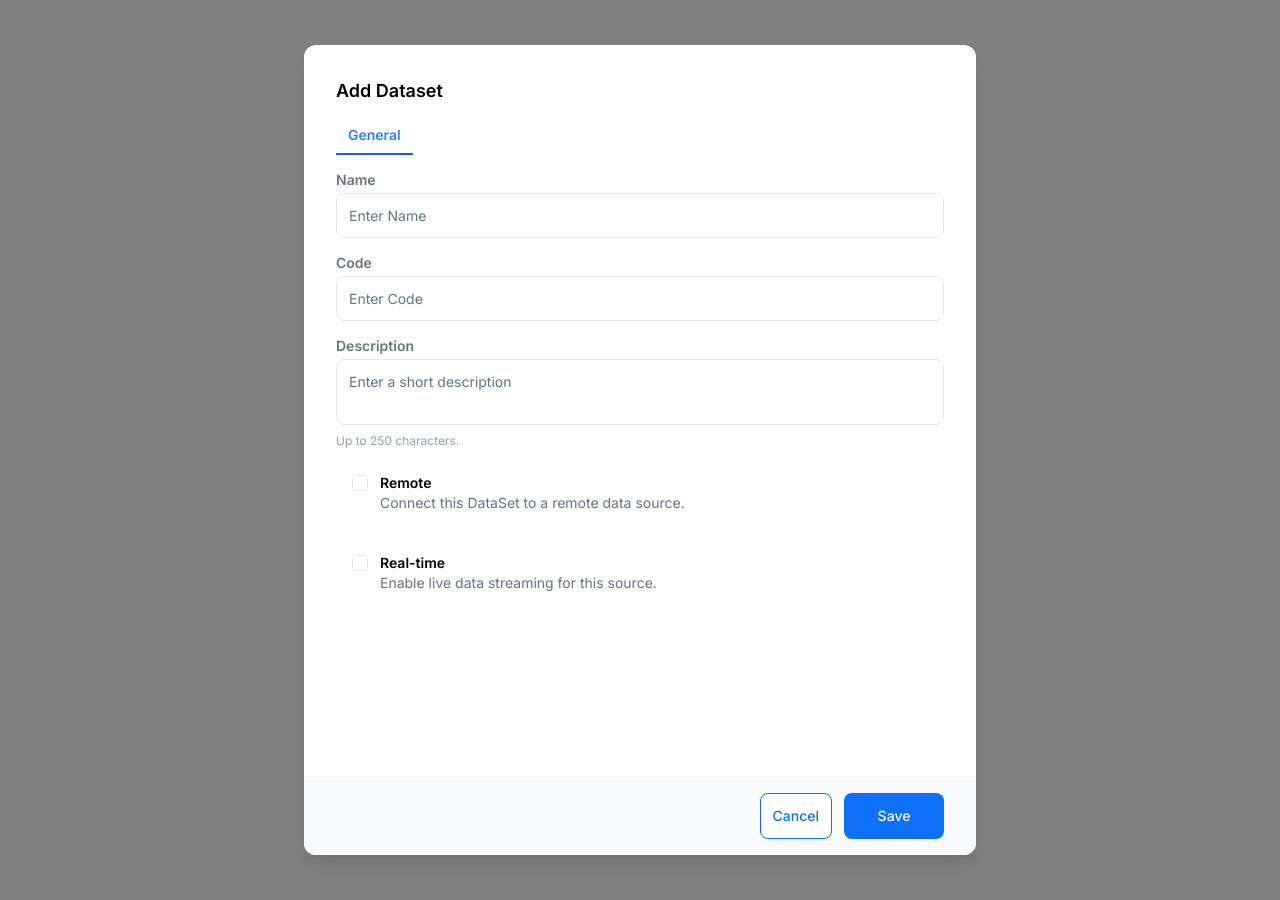
AddAndEditDatasetModal › Real-time dataset › hides Data Connector Source dropdown when Real-time is unchecked again
Click the checkbox named "Real-time" at [360, 563], box [352,555,368,571]
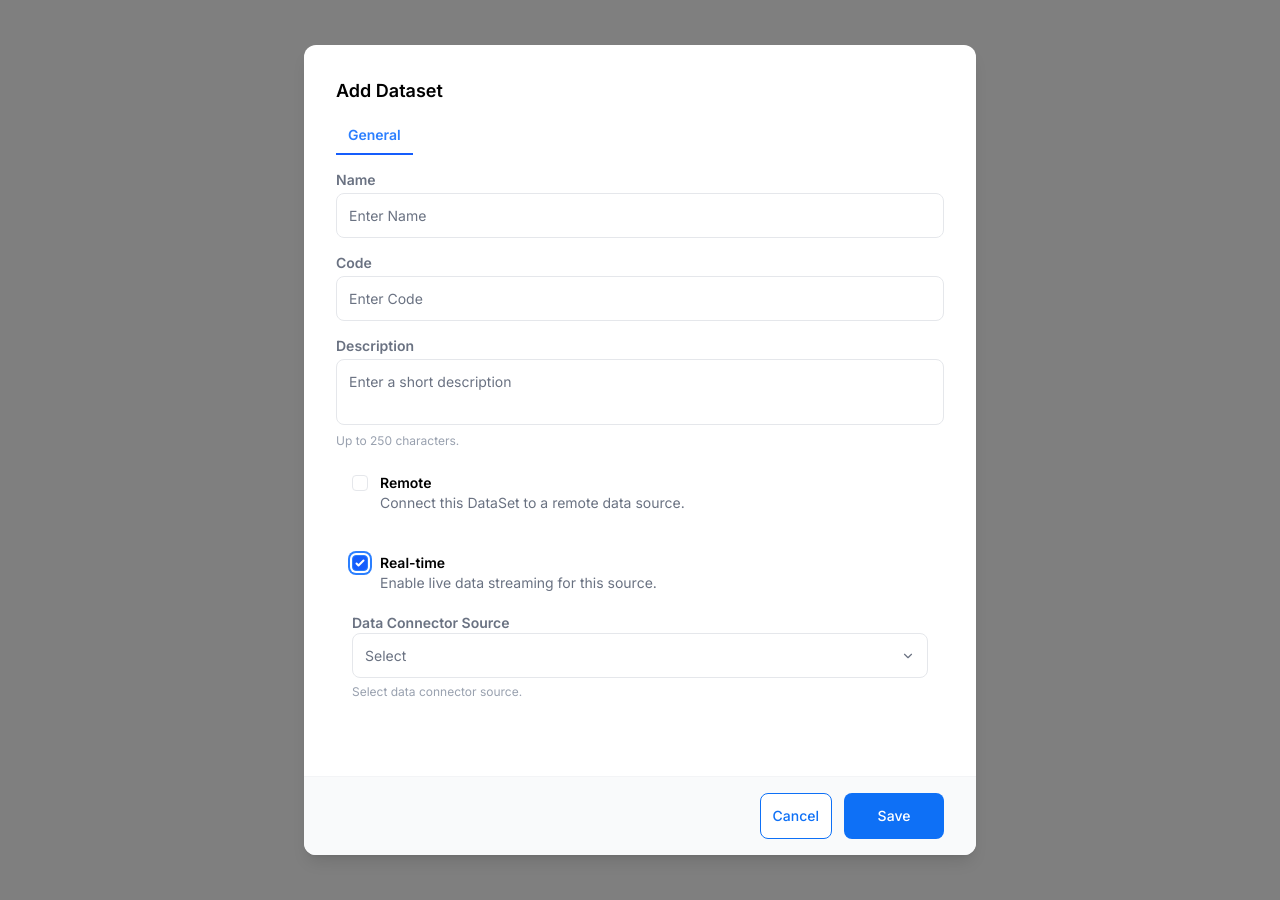
Click the checkbox named "Real-time" at [360, 563], box [352,555,368,571]
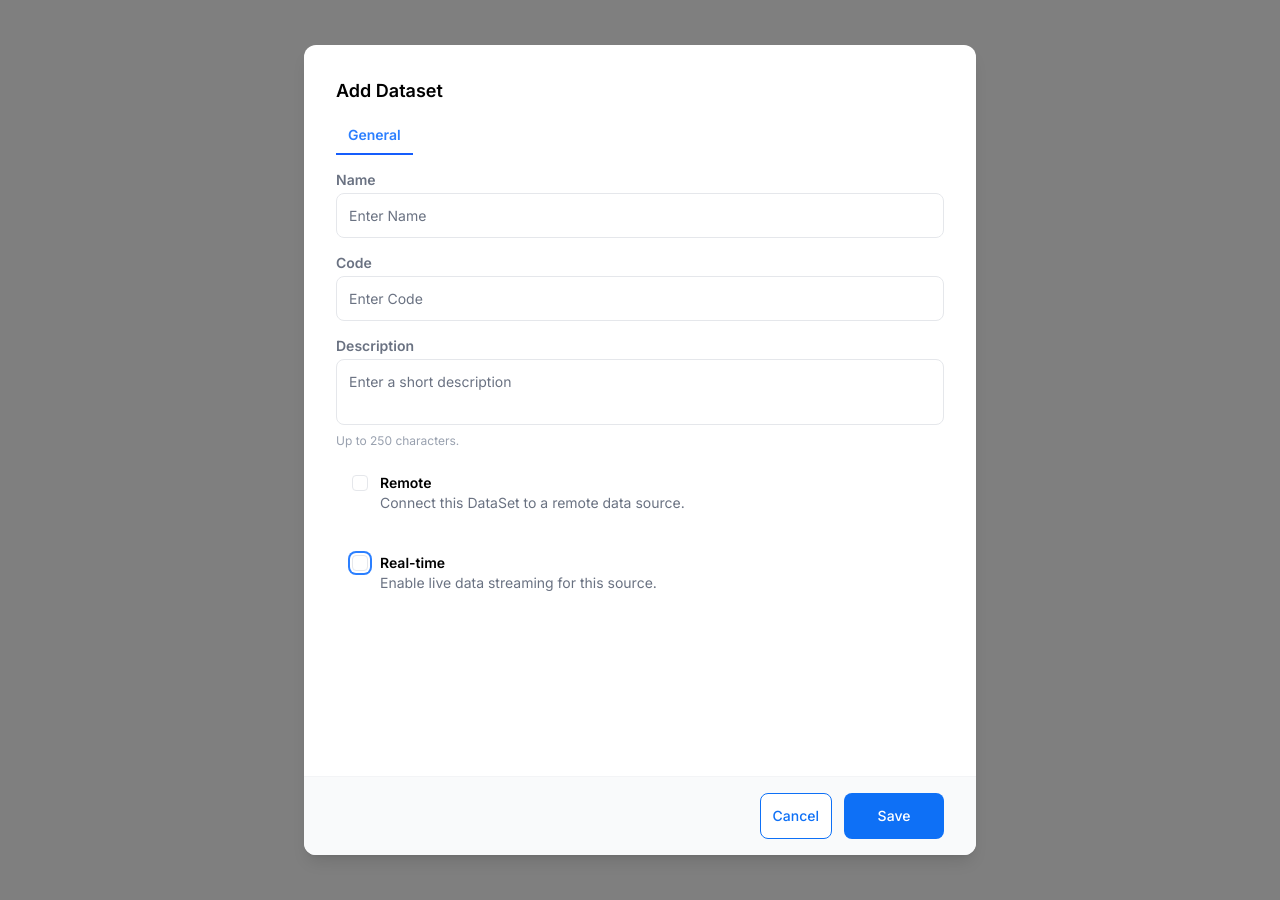
Check: the text "Data Connector Source" is gone
